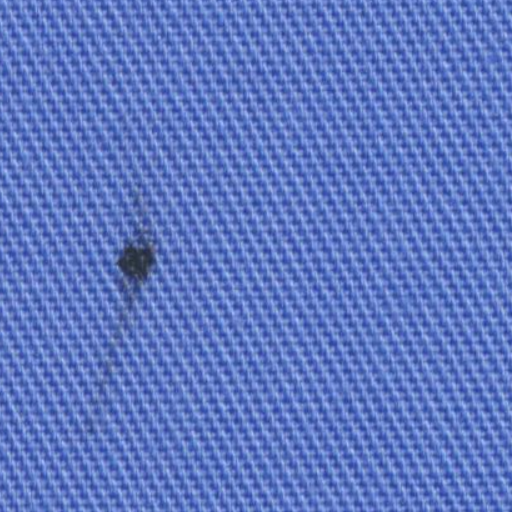WuZi: (54, 186, 164, 436)
